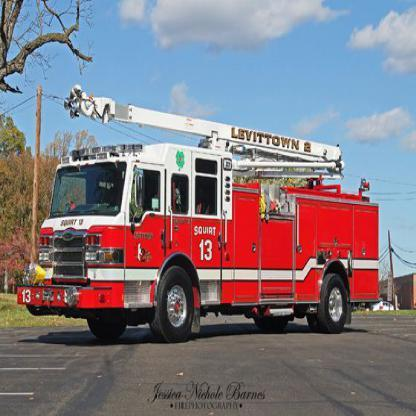fire-truck: (28, 48, 405, 395)
